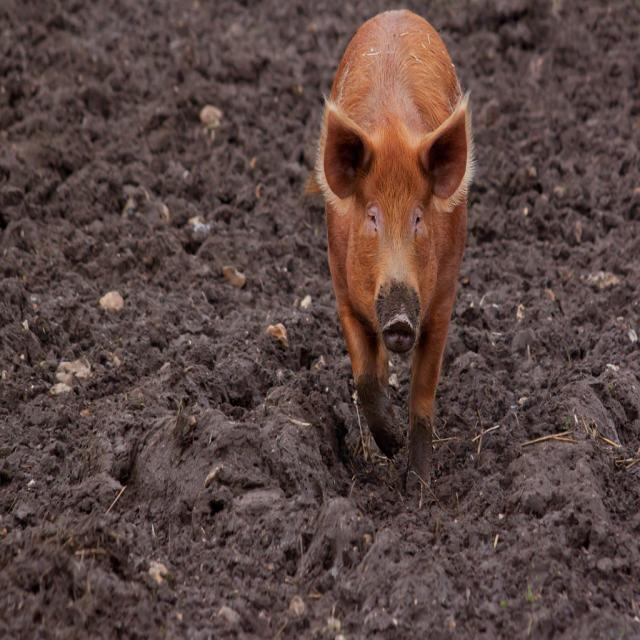Pig: (304, 9, 473, 497)
